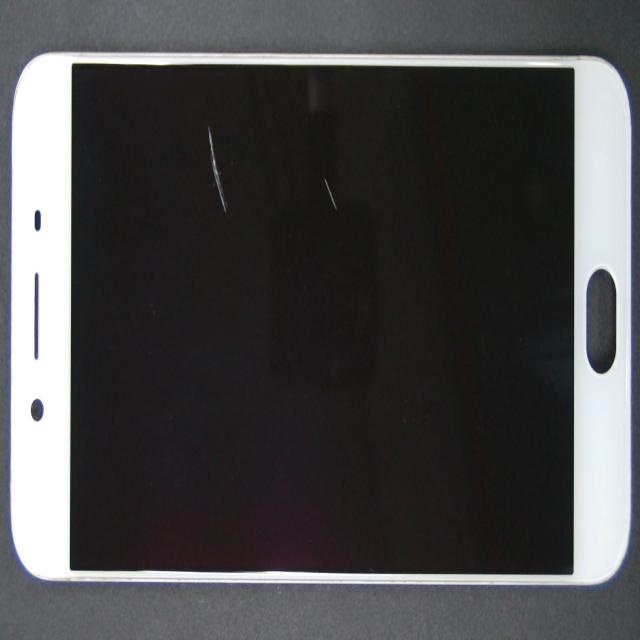scratch: (189, 139, 513, 295), (129, 136, 336, 239)
